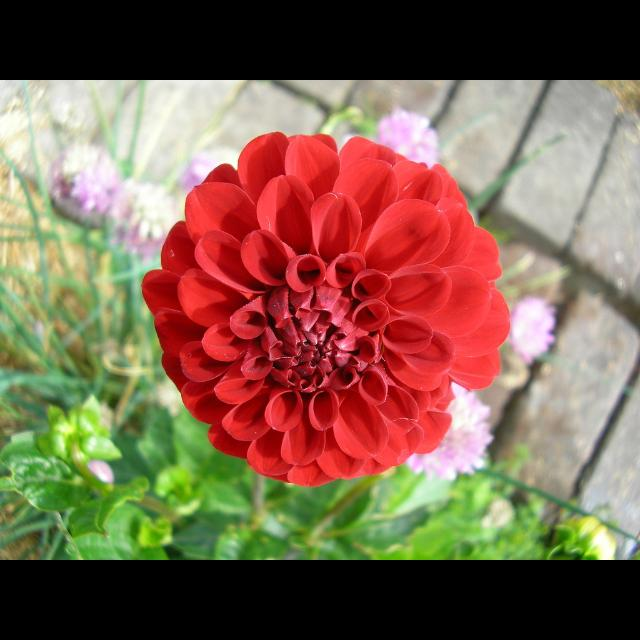Flower: (139, 132, 511, 486), (404, 380, 490, 482), (49, 139, 127, 237), (115, 178, 183, 258), (377, 106, 439, 168), (509, 300, 558, 366), (182, 143, 244, 195)
